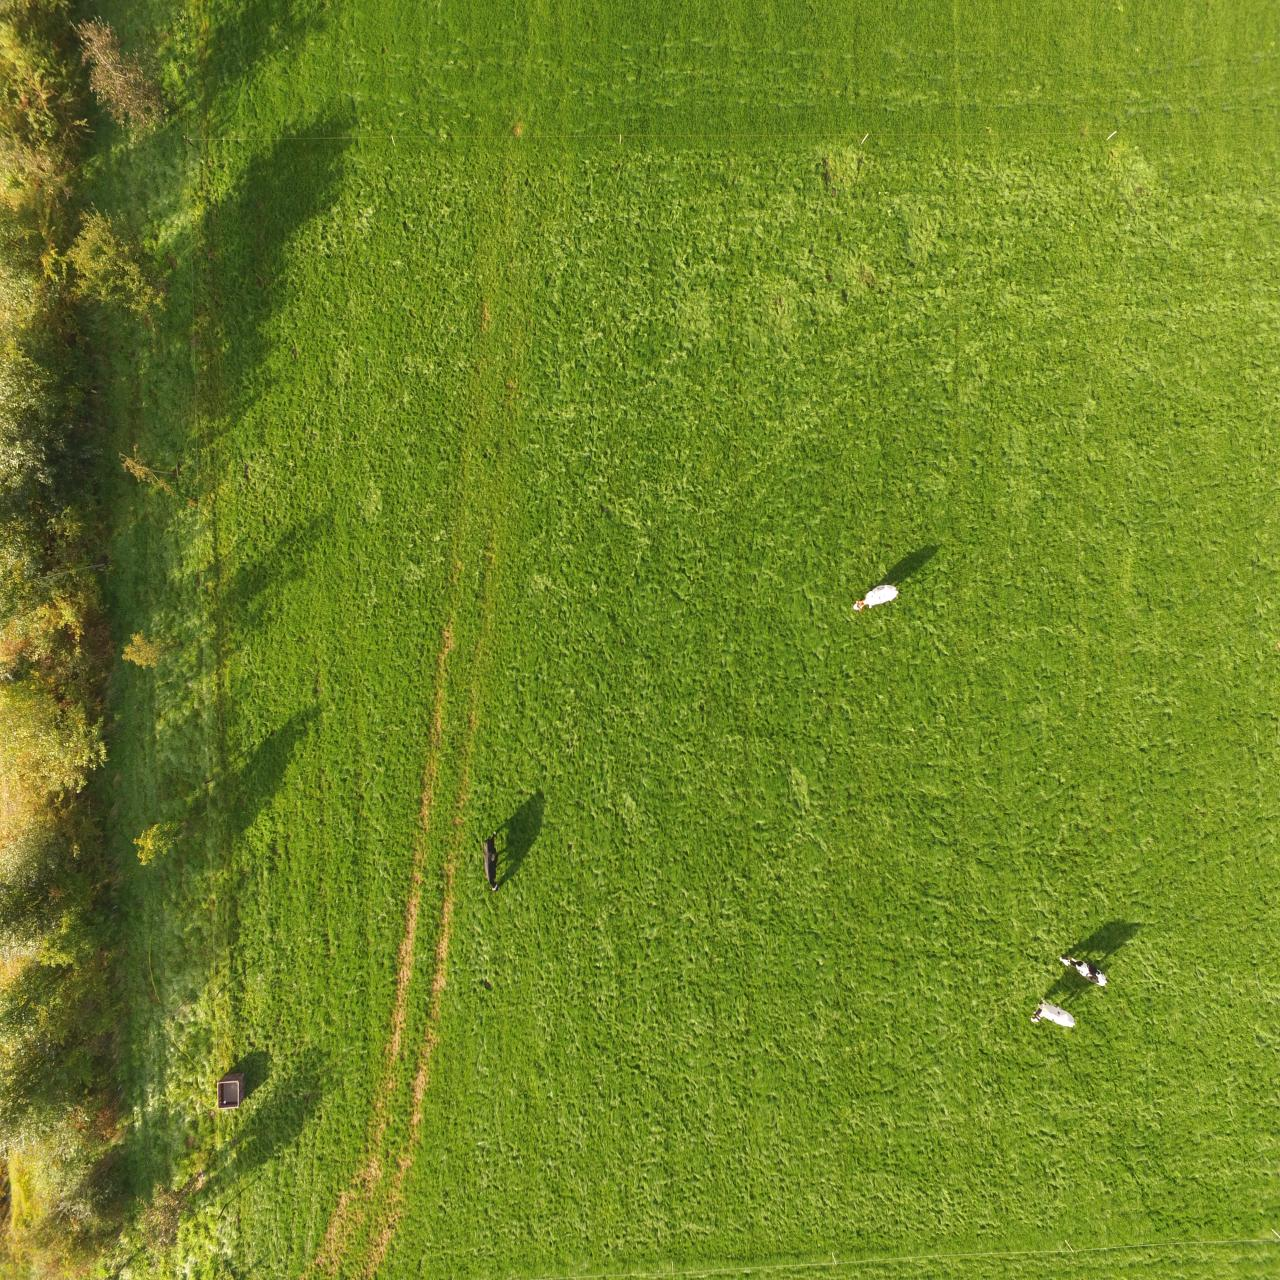cow: (1057, 952, 1109, 989), (1030, 996, 1078, 1032), (851, 584, 900, 614), (481, 829, 502, 893)
